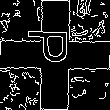P_E: (29, 36, 81, 74)
